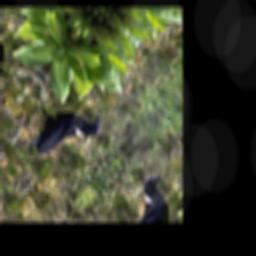Crow: (17, 80, 109, 177)
